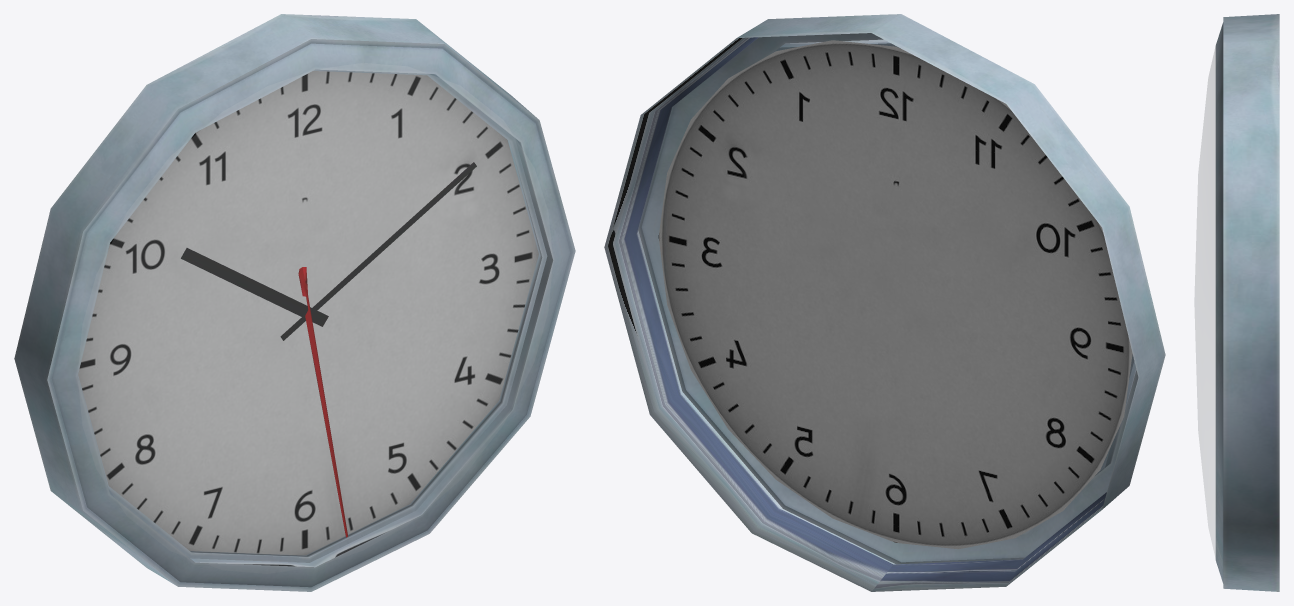
File: WallClock_LOD2.obj
The picture shows the model from 3 angles, left to right: view 1: azimuth 30°, elevation 25°; view 2: azimuth 150°, elevation 25°; view 3: azimuth 270°, elevation 25°; orthographic projection. The views are drawn at different scales.
Parts seen in each view (by area): view 1: Clock, Glass; view 2: Clock; view 3: Clock, Glass.
Boxes of the visible parts, x1,y1,x2,y2 form: Clock: (14, 14, 575, 591); Glass: (78, 63, 552, 573); Clock: (604, 14, 1165, 591); Clock: (1215, 14, 1279, 591); Glass: (1194, 46, 1215, 557).
Bounding box in the file's own units: 0.3204 × 0.3204 × 0.0472.
Materials: 2 (1 with a texture image).
